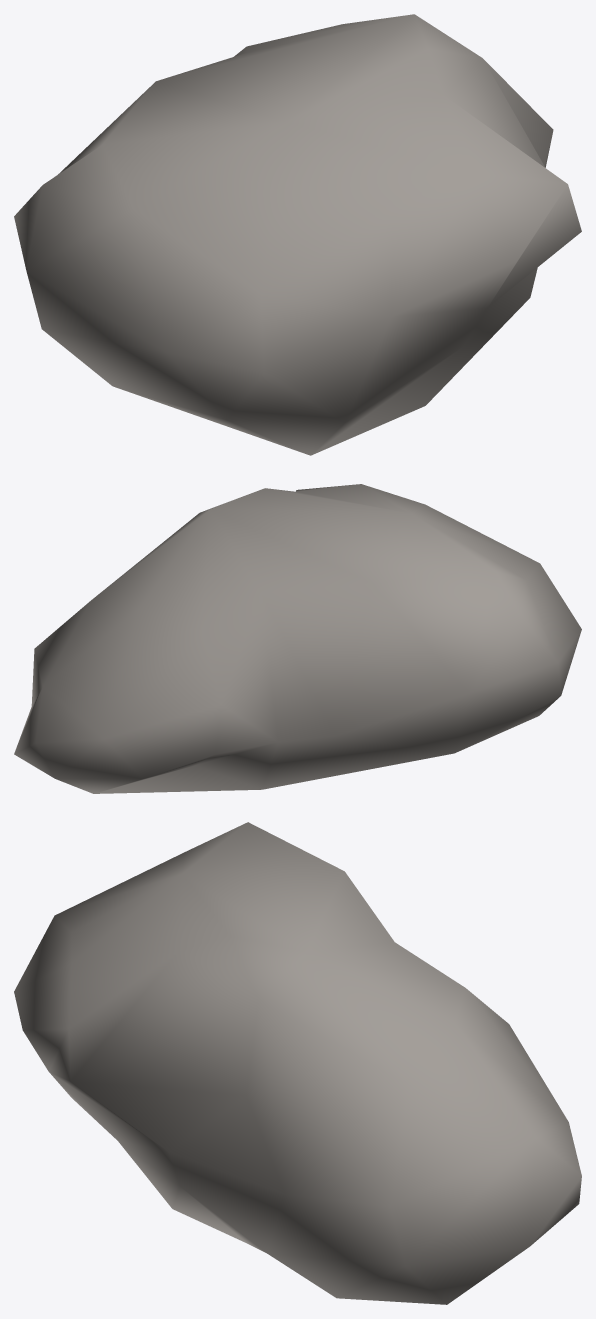
Rendered from rpgpp_ag_rock_03.fbx.
3 views of the same model, one above another, from view 1: azimuth 30°, elevation 25°; view 2: azimuth 150°, elevation 25°; view 3: azimuth 270°, elevation 25° (orthographic). The views are drawn at different scales.
Visible parts, largest first — view 1: rpgpp_ag_rock_03; view 2: rpgpp_ag_rock_03; view 3: rpgpp_ag_rock_03.
Boxes of the visible parts, left/top/right/bottom form: rpgpp_ag_rock_03: left=14, top=14, right=581, bottom=455; rpgpp_ag_rock_03: left=14, top=484, right=581, bottom=793; rpgpp_ag_rock_03: left=14, top=822, right=581, bottom=1304.
Bounding box in the file's own units: 3.02 × 1.62 × 2.74.
